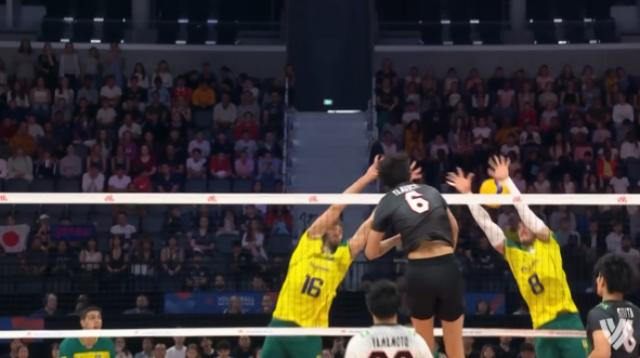Levantador: (578, 246, 638, 358)
Libero: (336, 276, 436, 358)
bola: (476, 176, 510, 214)
